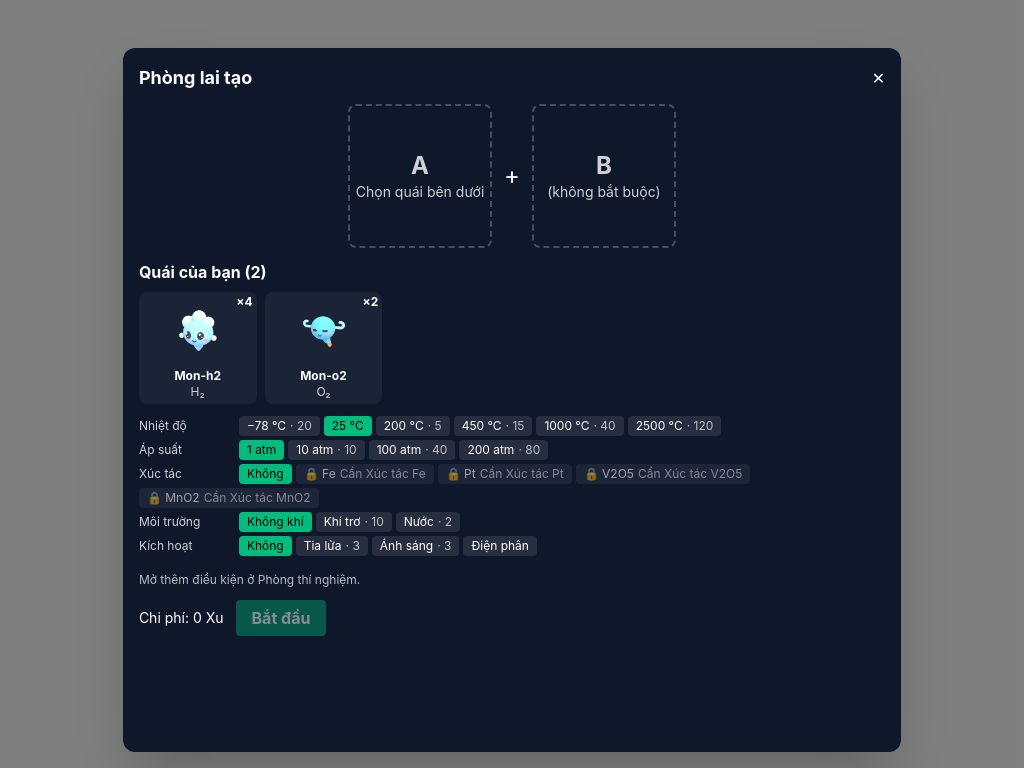
it: clamps count when owned drops and empties the slot at 0
Later steps or results of the test are not shown.
Click the button "×4 Mon-h2 H₂". click: (198, 348)
box: [139,292,257,404]
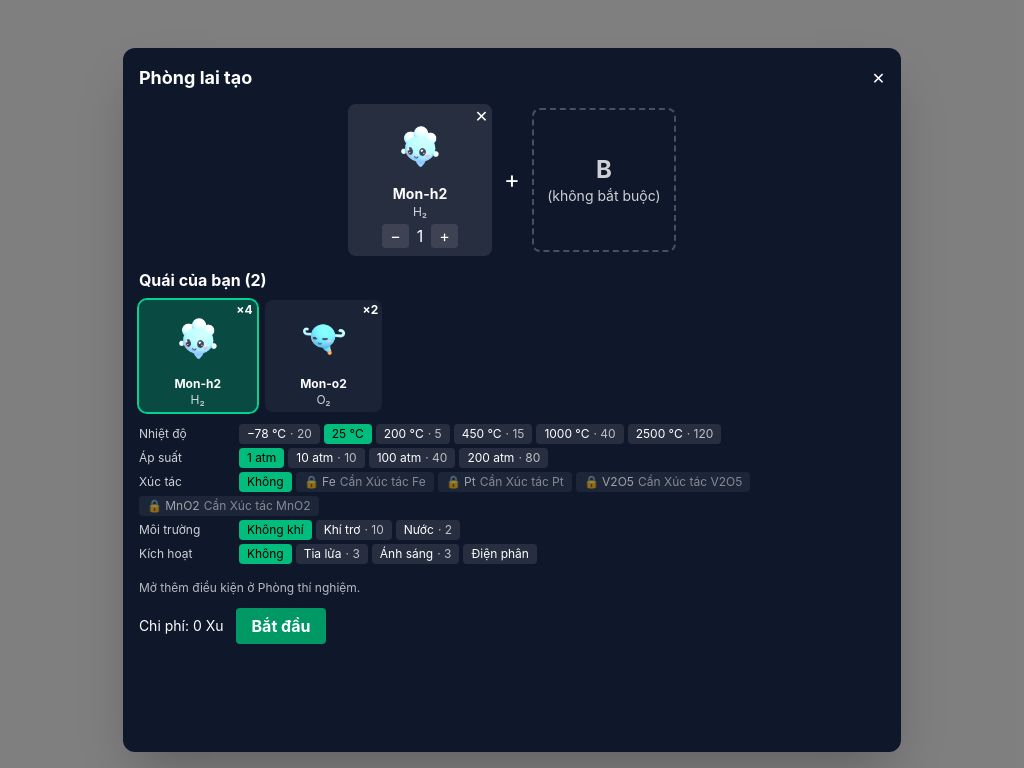
Click the button named "Tăng A". click: (445, 236)
box: [431,224,458,248]
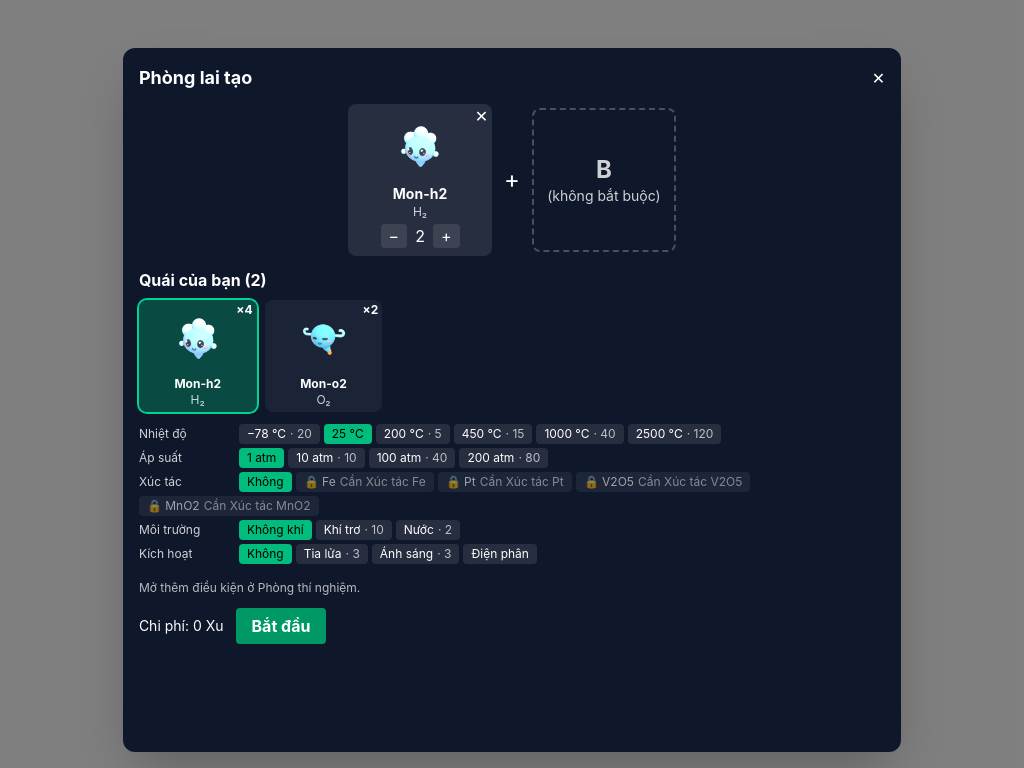
Click the button named "Tăng A". click: (446, 236)
box: [433,224,460,248]
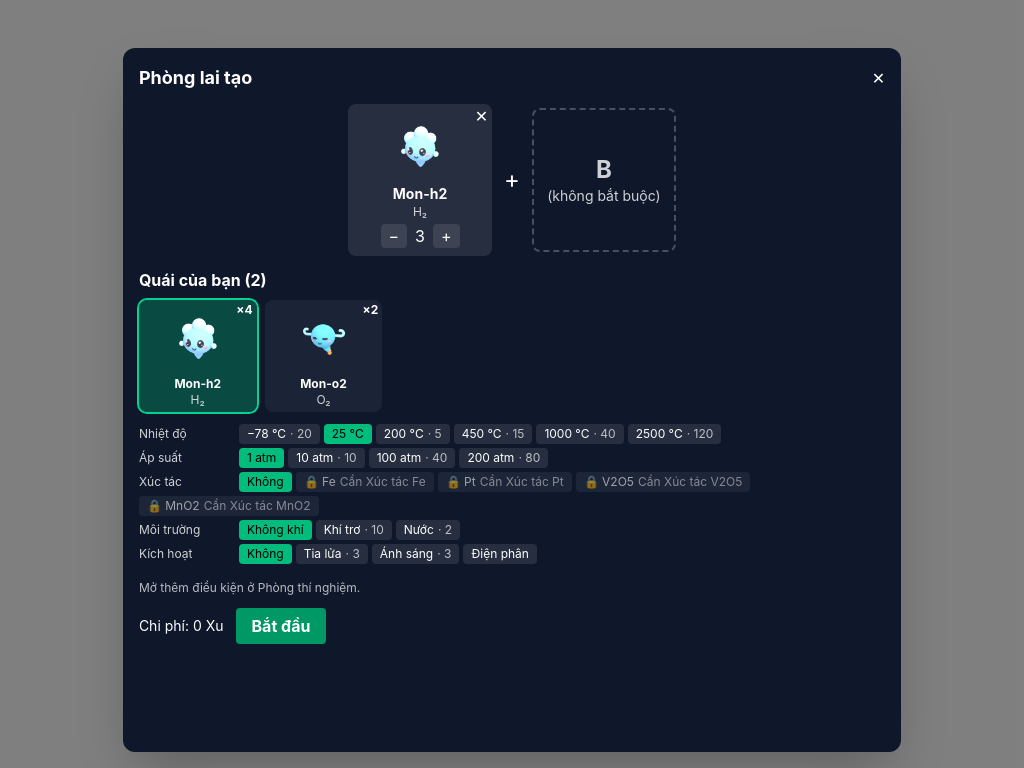
Result: the text named "Số lượng A" reads "3" at [415,226,425,246]
